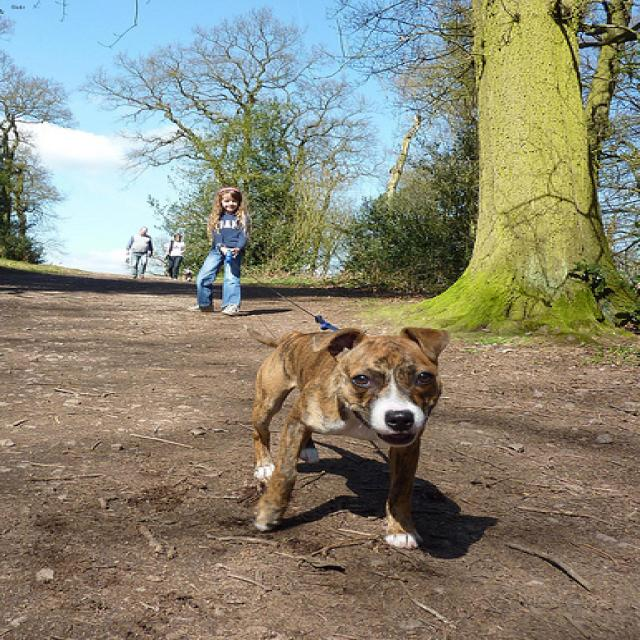dog-staffordshire_bull_terrier: (237, 320, 463, 552)
